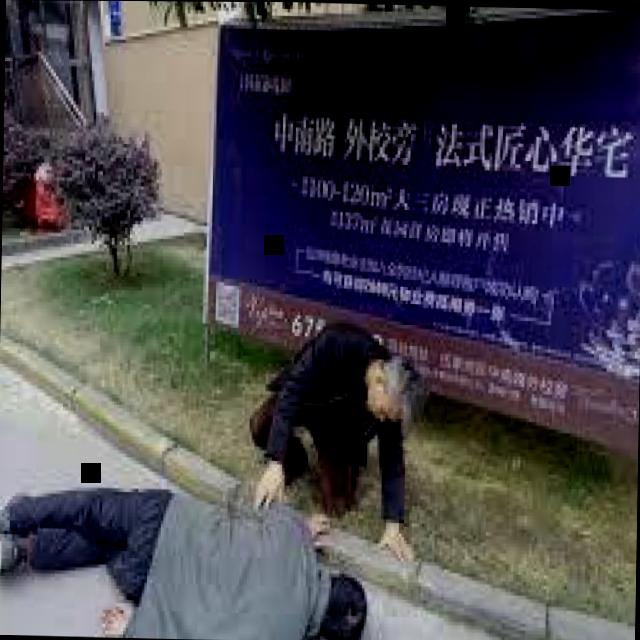Fall-Detected: (0, 453, 373, 640)
